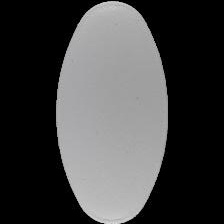43547-257: (0, 0, 224, 224)
